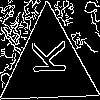K: (24, 40, 66, 76)
